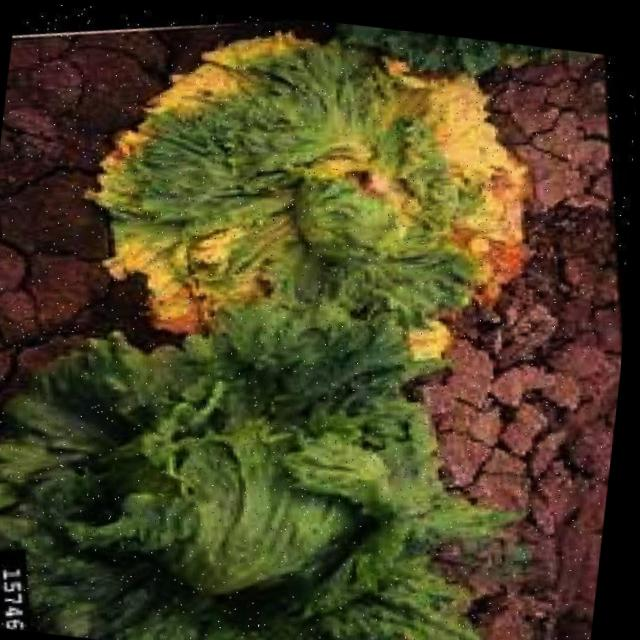Bad: (94, 34, 524, 361)
